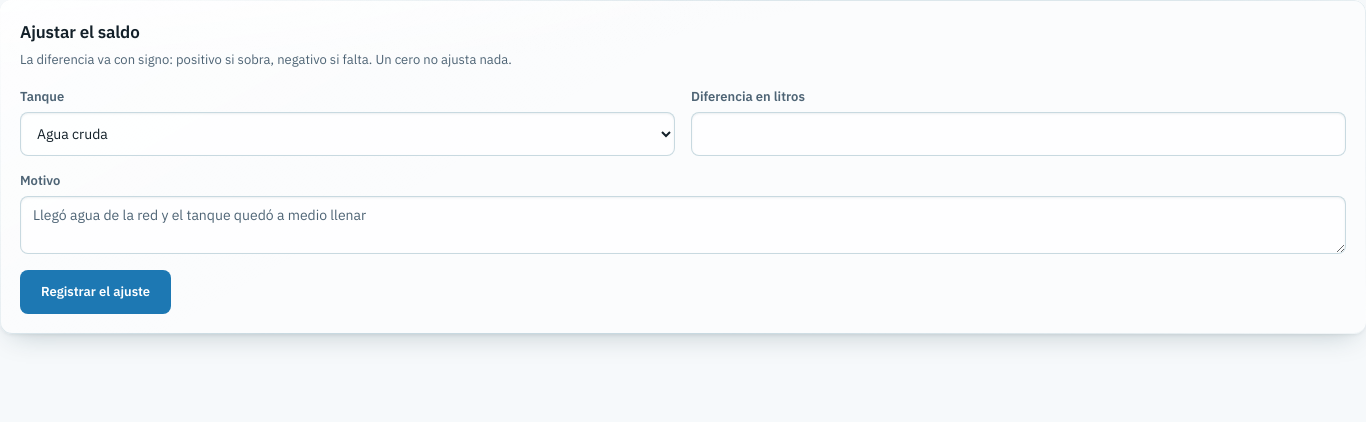
Test: AjustarAgua — el resultado se ve antes de confirmar › sumar muestra a cuánto va a quedar
Type "500" into the number field labelled "Diferencia en litros" at (1018, 134), box [691,112,1346,156]
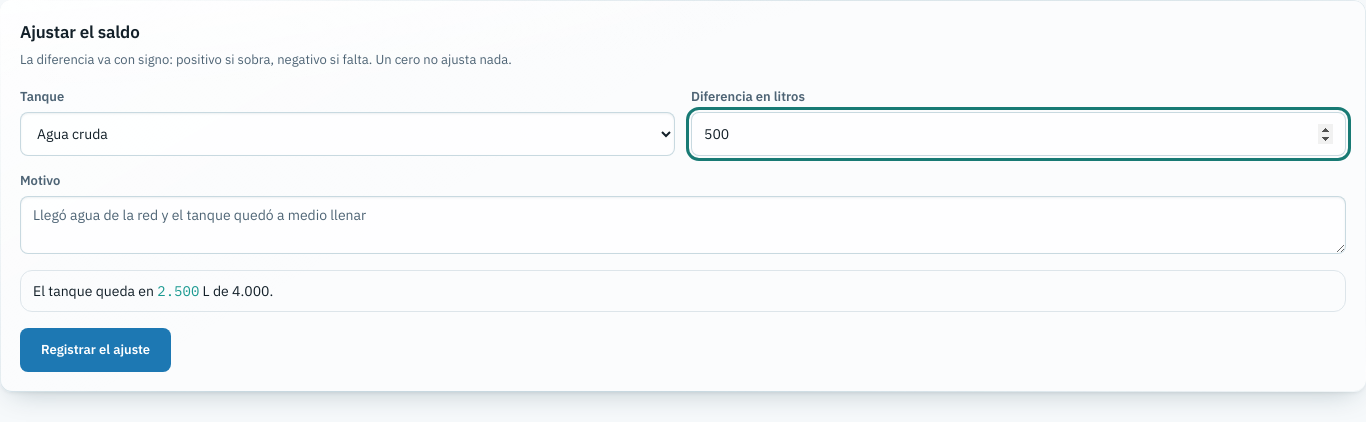
Expected: the text "El tanque queda en 2.500 L de 4.000." is shown, [20,270,1346,312]
